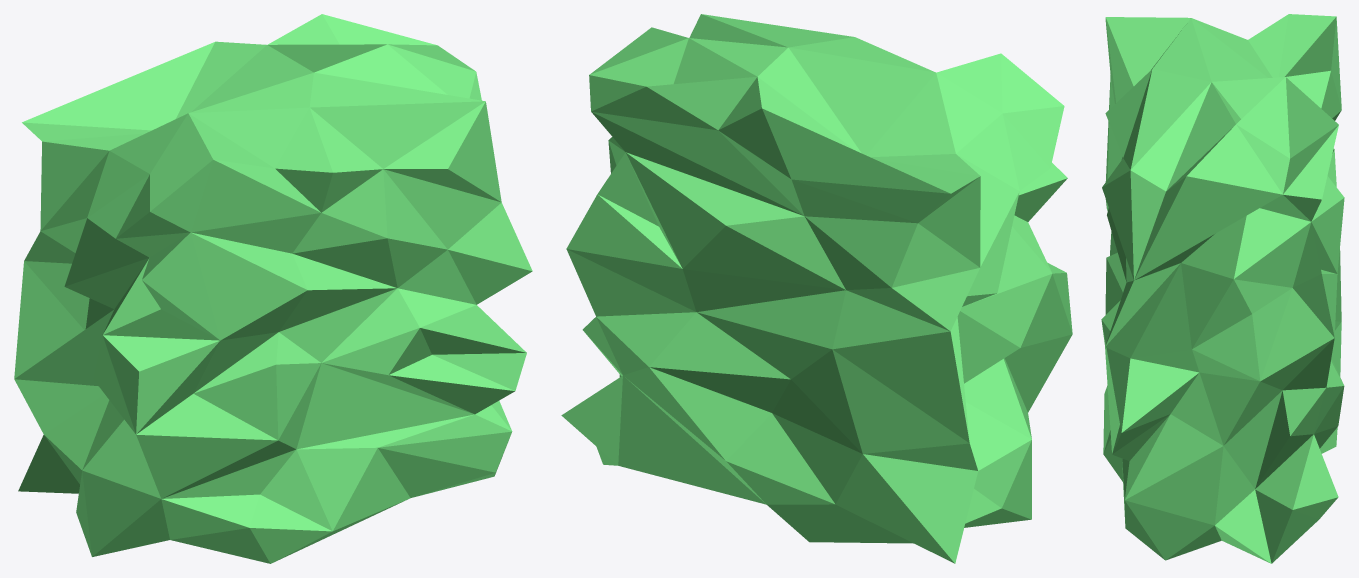
Rendered from buisson_05_lowpoly.fbx.
3 renders of one model, left to right at view 1: azimuth 30°, elevation 25°; view 2: azimuth 150°, elevation 25°; view 3: azimuth 270°, elevation 25°, orthographic. The views are drawn at different scales.
Parts seen in each view (by area): view 1: Cube.011; view 2: Cube.011; view 3: Cube.011.
Boxes of the visible parts, x1,y1,x2,y2 form: Cube.011: (14, 14, 532, 563); Cube.011: (561, 14, 1072, 563); Cube.011: (1101, 14, 1344, 563).
Bounding box in the file's own units: 4.32 × 2.33 × 4.4.
